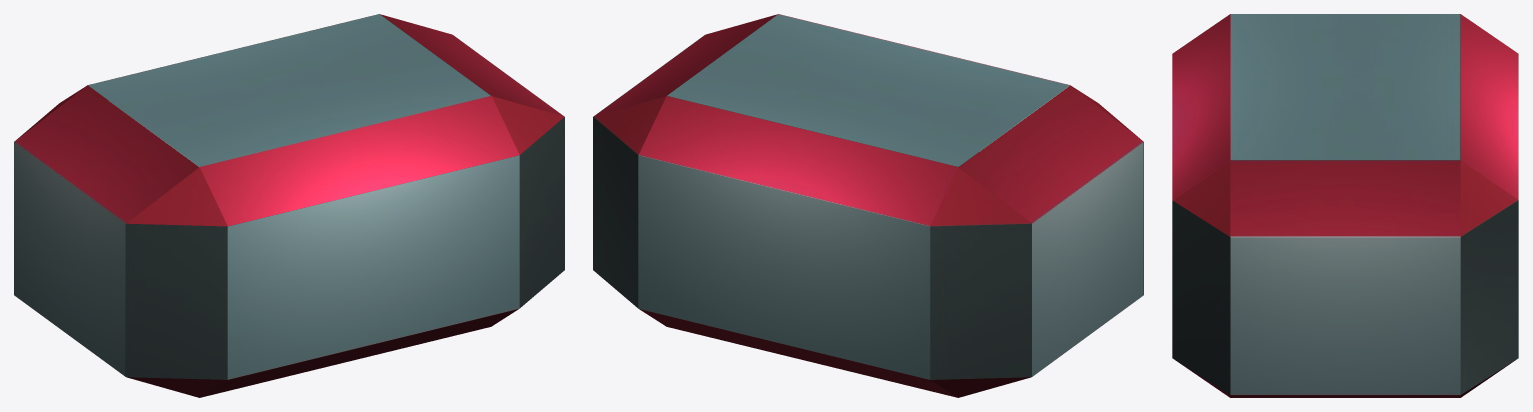
The model's file is speedpowerup3.dae.
The picture shows the model from 3 angles, left to right: view 1: azimuth 30°, elevation 25°; view 2: azimuth 150°, elevation 25°; view 3: azimuth 270°, elevation 25°; orthographic projection. The views are drawn at different scales.
Parts seen in each view (by area): view 1: powerpack; view 2: powerpack; view 3: powerpack.
Boxes of the visible parts, x1,y1,x2,y2 form: powerpack: (14,14,564,397); powerpack: (593,14,1143,397); powerpack: (1172,14,1518,397).
Bounding box in the file's own units: 2 × 1.33 × 1.
1 material, 1 textured.
